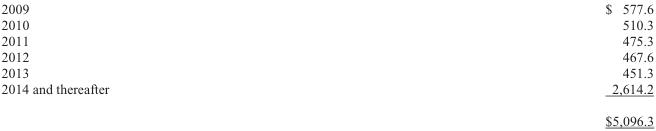table: (0, 0, 653, 128)
table column: (0, 0, 356, 128), (356, 0, 653, 128)
table row: (0, 80, 653, 104), (0, 104, 653, 128), (0, 0, 653, 16), (0, 16, 653, 32), (0, 32, 653, 48), (0, 48, 653, 64), (0, 64, 653, 80)
